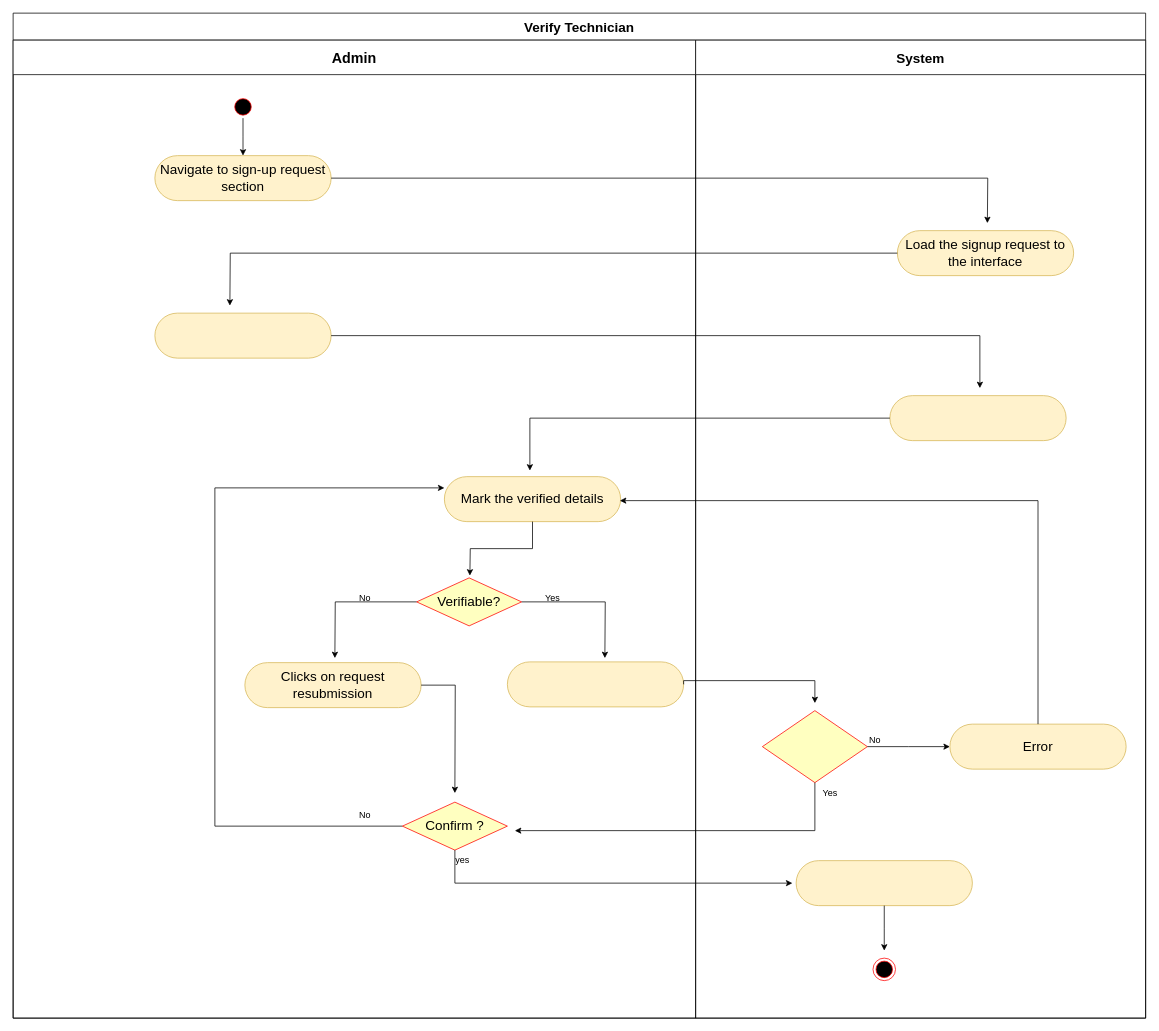
This 1159x1031 diagram has some shape labels left out. Here are the shapes that lost their labels. From the top down, the centre of each, then its label:
At point 242,335: "Clicks on a request".
At point 977,418: "Loads the request details".
At point 595,684: "Click verify technician".
At point 814,746: "all details ticked?".
At point 883,883: "Verification status email will be sent".
